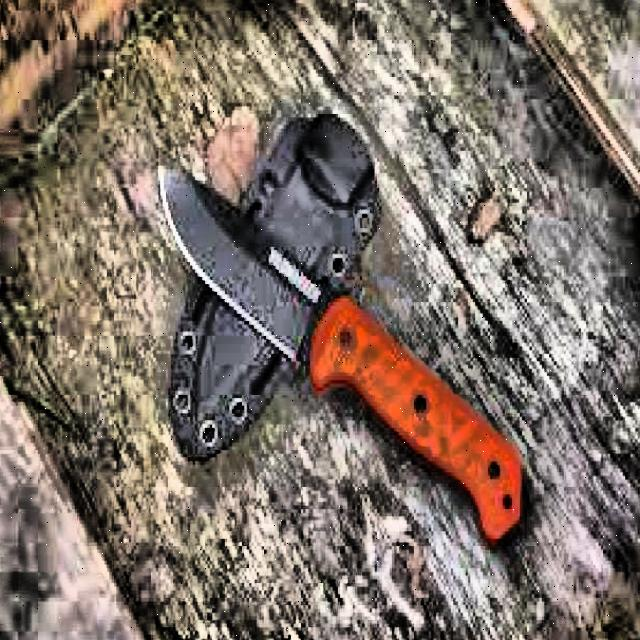knife: (155, 152, 540, 557)
